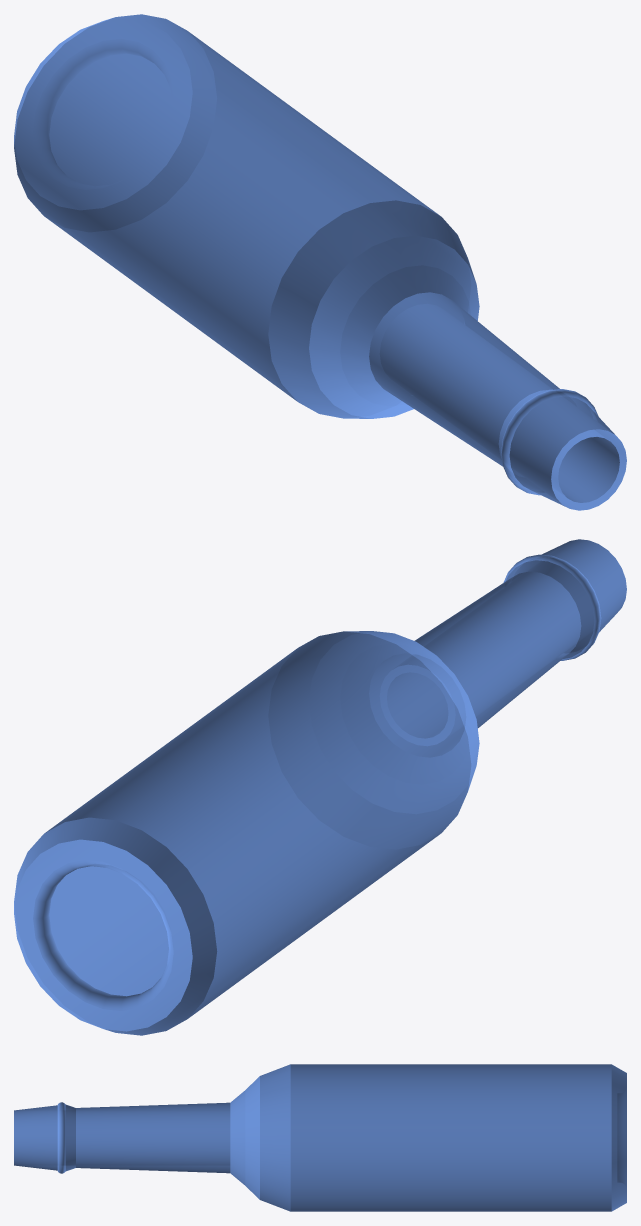
The model's file is model_scale.obj.
3 views of the same model, one above another, from view 1: azimuth 30°, elevation 25°; view 2: azimuth 150°, elevation 25°; view 3: azimuth 270°, elevation 25° (orthographic). The views are drawn at different scales.
Parts seen in each view (by area): view 1: mesh1_mesh1-geometry; view 2: mesh1_mesh1-geometry; view 3: mesh1_mesh1-geometry.
Part boxes in pixels (x1=…): mesh1_mesh1-geometry: x1=14, y1=14, x2=626, y2=510; mesh1_mesh1-geometry: x1=14, y1=539, x2=626, y2=1035; mesh1_mesh1-geometry: x1=14, y1=1064, x2=626, y2=1211.
Bounding box in the file's own units: 0.0544 × 0.0544 × 0.2253.
